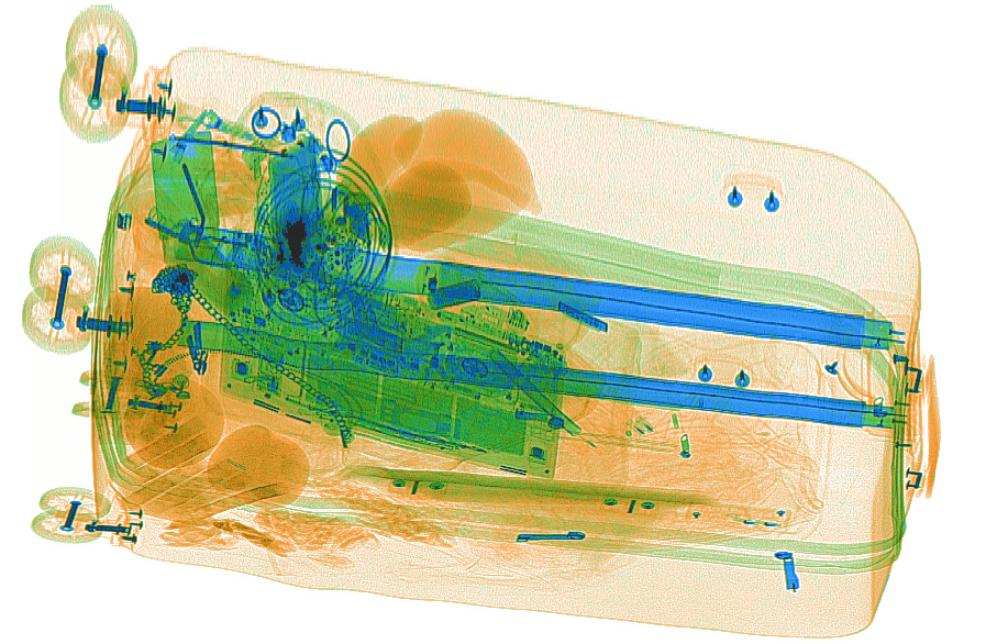battery: (426, 277, 481, 310)
